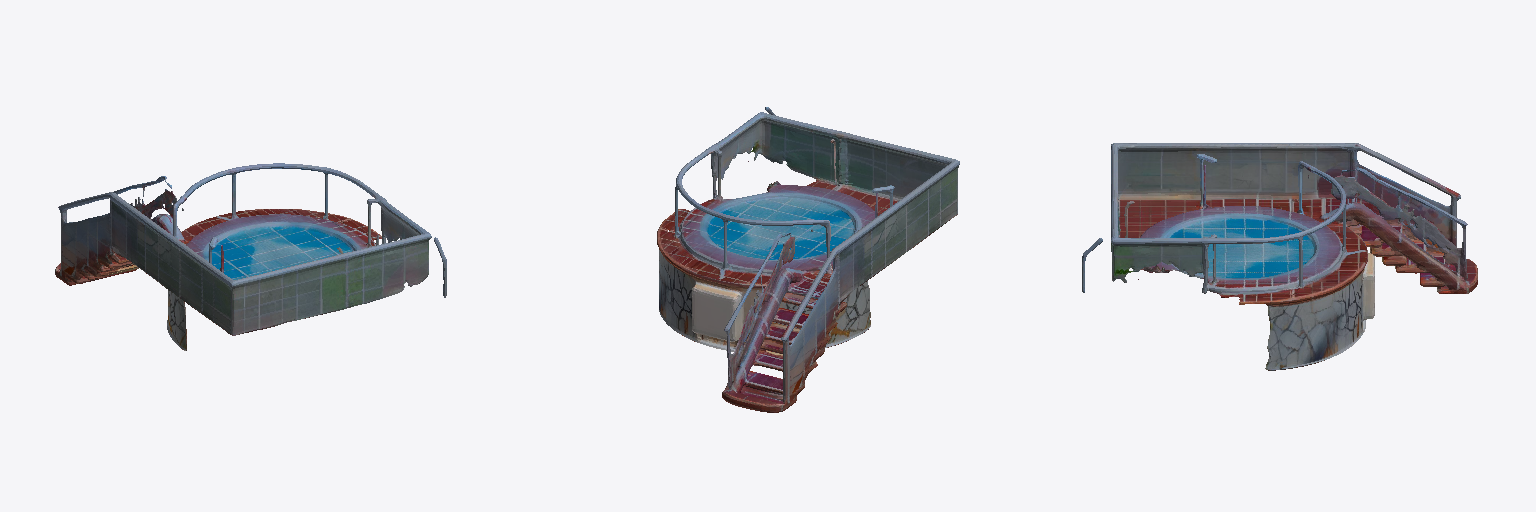
The picture shows the model from 3 angles: view 1: azimuth 30°, elevation 25°; view 2: azimuth 150°, elevation 25°; view 3: azimuth 270°, elevation 25°; orthographic projection.
Visible parts, largest first — view 1: tripo_node_ecd6b72b-f023-49aa-8928-2477a6eee392; view 2: tripo_node_ecd6b72b-f023-49aa-8928-2477a6eee392; view 3: tripo_node_ecd6b72b-f023-49aa-8928-2477a6eee392.
Part boxes in pixels (bbox=[...]): tripo_node_ecd6b72b-f023-49aa-8928-2477a6eee392: bbox=[55, 163, 446, 350]; tripo_node_ecd6b72b-f023-49aa-8928-2477a6eee392: bbox=[657, 107, 959, 412]; tripo_node_ecd6b72b-f023-49aa-8928-2477a6eee392: bbox=[1082, 143, 1477, 370].
Size of the model in its own units: 0.6019 by 0.3348 by 0.9454.
Materials: 1 (1 with a texture image).